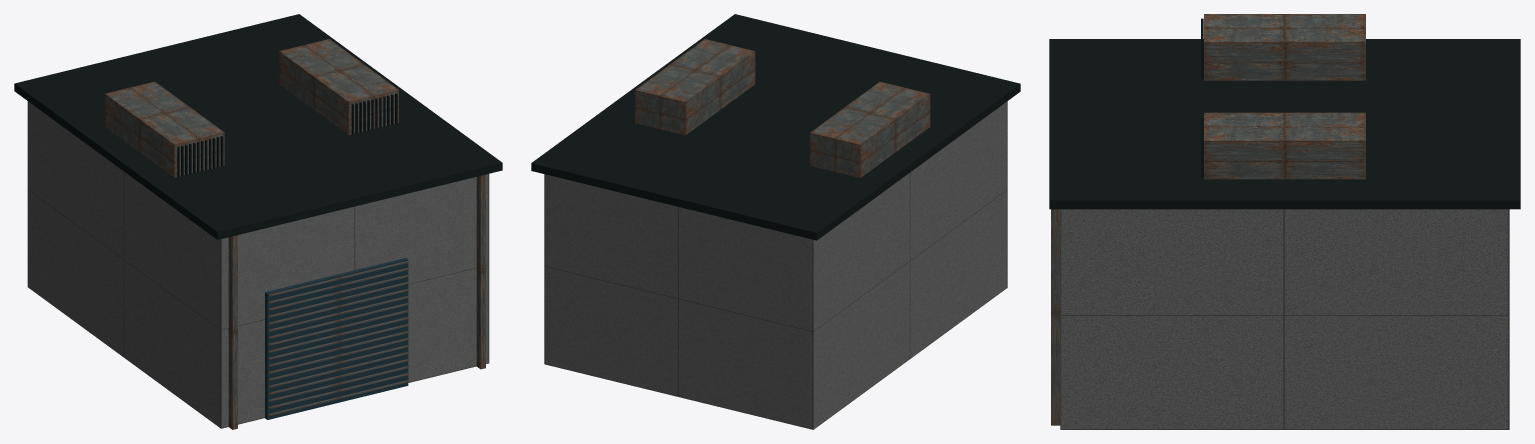
The model's file is ServiceBuilding.obj.
3 views of the same model, side by side, from view 1: azimuth 30°, elevation 25°; view 2: azimuth 150°, elevation 25°; view 3: azimuth 270°, elevation 25° (orthographic). The views are drawn at different scales.
Visible parts, largest first — view 1: ServiceBuilding; view 2: ServiceBuilding; view 3: ServiceBuilding.
Boxes of the visible parts, box(x1,y1,x2,y2) form: ServiceBuilding: box(14, 14, 502, 429); ServiceBuilding: box(531, 14, 1020, 429); ServiceBuilding: box(1049, 14, 1520, 429).
Size of the model in its own units: 8.5 by 6.7 by 10.5.
4 materials, 2 textured.
